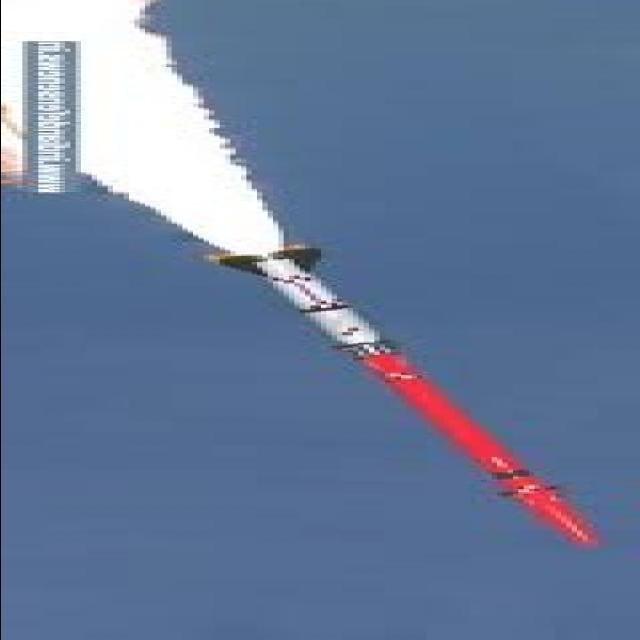Missile: (198, 249, 610, 551)
